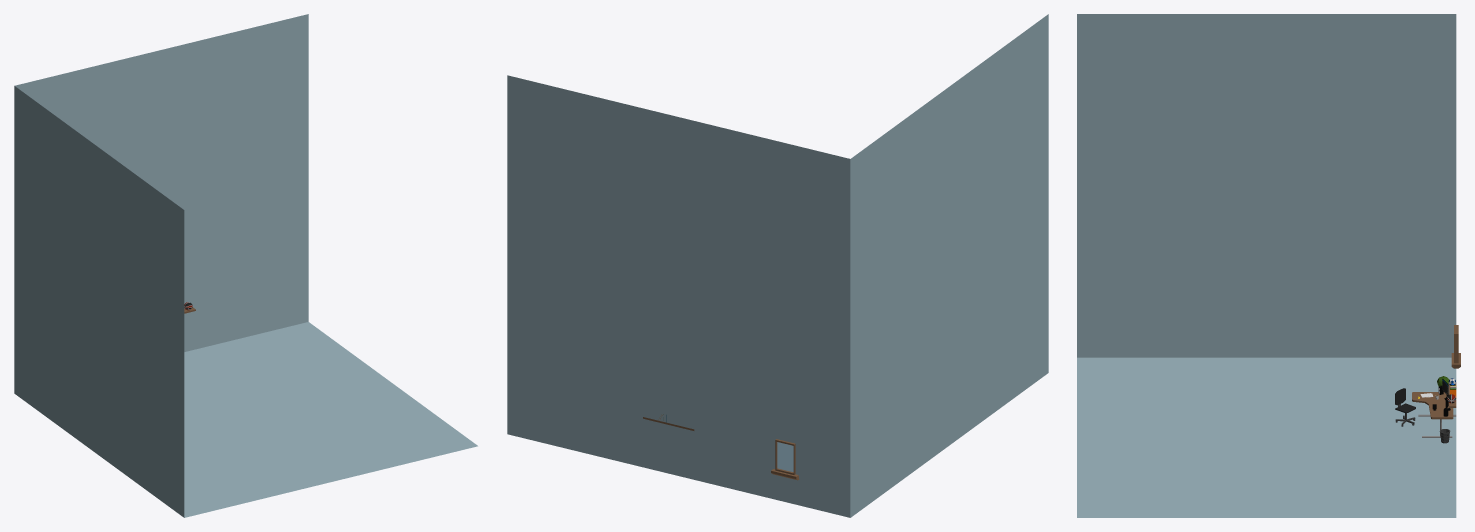
The model's file is Office.glb.
3 views of the same model, side by side, from view 1: azimuth 30°, elevation 25°; view 2: azimuth 150°, elevation 25°; view 3: azimuth 270°, elevation 25° (orthographic). The views are drawn at different scales.
Visible parts, largest first — view 1: SideWall, BackWall, Floor; view 2: BackWall, SideWall, Window; view 3: SideWall, Floor, Desktop.
Part boxes in pixels (x1=…): SideWall: x1=14, y1=86, x2=184, y2=517; BackWall: x1=15, y1=14, x2=308, y2=351; Floor: x1=184, y1=322, x2=477, y2=517; BackWall: x1=507, y1=75, x2=850, y2=517; SideWall: x1=850, y1=14, x2=1048, y2=517; Window: x1=771, y1=439, x2=799, y2=480; SideWall: x1=1077, y1=14, x2=1456, y2=357; Floor: x1=1077, y1=357, x2=1456, y2=517; Desktop: x1=1412, y1=392, x2=1453, y2=419.
Bounding box in the file's own units: 10 × 10 × 10.13.
35 materials, 2 textured.
